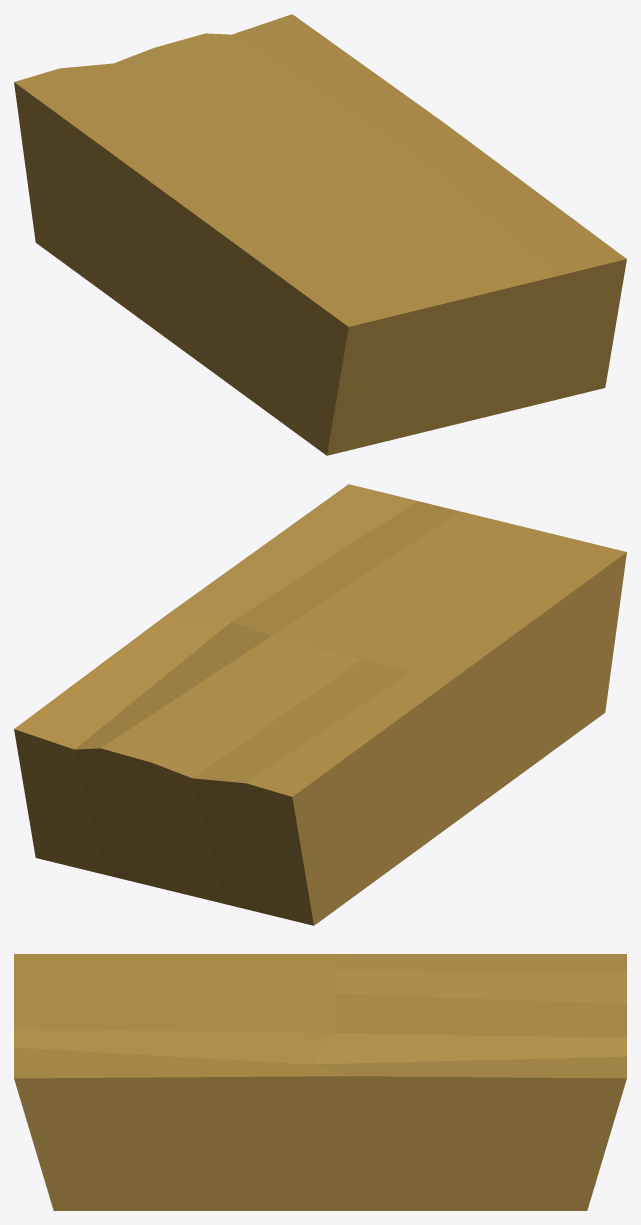
Rendered from candle new.fbx.
The picture shows the model from 3 angles, top to bottom: view 1: azimuth 30°, elevation 25°; view 2: azimuth 150°, elevation 25°; view 3: azimuth 270°, elevation 25°; orthographic projection. The views are drawn at different scales.
Visible parts, largest first — view 1: Cube; view 2: Cube; view 3: Cube.
Part boxes in pixels (box(x1,y1,x2,y2)): Cube: box(14, 14, 626, 455); Cube: box(14, 484, 626, 925); Cube: box(14, 954, 626, 1210).
Bounding box in the file's own units: 78.16 × 39.49 × 163.
